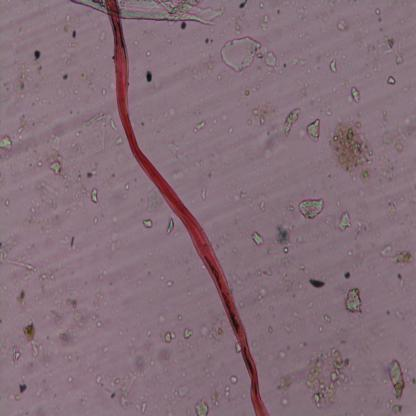Background material: (329, 118, 373, 184), (305, 346, 349, 408), (48, 298, 91, 346), (28, 180, 57, 244), (219, 36, 262, 73), (119, 333, 157, 374), (44, 132, 73, 183), (381, 110, 415, 153), (65, 170, 91, 218), (0, 242, 35, 276), (37, 340, 74, 370), (270, 268, 303, 299), (38, 254, 61, 298), (279, 368, 304, 408), (261, 119, 283, 164), (118, 363, 140, 407), (187, 50, 216, 83), (384, 358, 405, 402), (30, 368, 57, 402), (199, 313, 225, 347), (350, 204, 373, 241), (16, 144, 46, 171), (373, 146, 394, 183), (361, 43, 383, 77), (86, 110, 117, 134), (297, 196, 326, 221), (378, 246, 416, 265), (20, 321, 39, 358), (235, 76, 264, 100), (14, 60, 32, 98), (272, 219, 294, 250), (99, 172, 121, 202), (382, 36, 404, 66), (88, 282, 102, 329), (165, 141, 189, 167), (344, 285, 364, 315), (346, 240, 365, 270), (62, 41, 82, 69), (16, 111, 36, 139), (41, 113, 67, 134), (54, 81, 80, 102), (284, 106, 300, 139), (381, 196, 402, 221), (356, 329, 374, 357), (146, 188, 164, 215), (58, 227, 76, 254), (317, 0, 337, 23), (394, 270, 411, 297), (276, 254, 302, 271), (235, 185, 255, 207), (11, 22, 23, 56), (323, 207, 340, 231), (0, 131, 17, 155), (203, 350, 217, 379), (80, 65, 96, 90), (108, 229, 122, 257), (262, 46, 278, 70), (306, 119, 322, 143), (231, 11, 247, 35), (158, 342, 174, 366), (231, 271, 249, 292), (62, 14, 83, 32), (245, 108, 266, 126), (296, 1, 312, 24), (74, 132, 88, 158), (338, 209, 353, 233), (11, 380, 29, 400), (350, 12, 368, 32), (213, 229, 233, 247), (250, 228, 266, 250), (254, 262, 273, 280), (0, 154, 17, 174), (298, 72, 311, 98), (318, 99, 334, 118), (257, 13, 270, 36), (193, 398, 210, 415), (0, 72, 12, 96), (278, 320, 296, 336), (403, 364, 416, 386), (25, 356, 40, 375), (1, 193, 13, 216), (255, 287, 268, 308), (87, 160, 100, 181), (175, 383, 192, 399), (273, 0, 288, 18), (347, 87, 362, 105), (290, 55, 308, 70), (308, 275, 326, 290), (258, 192, 269, 216), (164, 327, 177, 346), (0, 336, 11, 358), (394, 306, 408, 323), (10, 345, 22, 364), (95, 27, 107, 46), (170, 170, 185, 185), (36, 85, 47, 105), (276, 346, 287, 365), (375, 7, 383, 33), (207, 146, 220, 162), (182, 324, 194, 341), (95, 265, 107, 282), (16, 288, 26, 308), (294, 234, 306, 250), (165, 216, 175, 235), (387, 400, 401, 413), (282, 202, 296, 215), (300, 32, 313, 46), (193, 120, 206, 134), (141, 216, 154, 230), (262, 349, 275, 363), (148, 112, 158, 130), (199, 182, 208, 202), (190, 157, 206, 168), (79, 391, 89, 408), (36, 65, 46, 82), (290, 308, 304, 320), (235, 296, 247, 310), (90, 186, 99, 204), (158, 390, 171, 402), (269, 366, 283, 377), (117, 154, 128, 168), (32, 48, 42, 63), (60, 69, 70, 84), (38, 0, 48, 15), (210, 388, 219, 404), (329, 58, 338, 74), (337, 19, 349, 31), (110, 210, 121, 223), (142, 27, 156, 37), (144, 69, 154, 83), (168, 104, 177, 119), (204, 36, 215, 48), (386, 75, 397, 87), (97, 85, 107, 98), (122, 180, 130, 196), (130, 34, 140, 46), (306, 296, 314, 310), (13, 277, 22, 289), (158, 311, 167, 323), (264, 324, 273, 335), (100, 342, 108, 354), (140, 401, 148, 413), (0, 171, 8, 183), (94, 376, 103, 386), (206, 169, 216, 178), (143, 327, 153, 336), (229, 375, 239, 384), (323, 313, 331, 324), (143, 48, 151, 59), (179, 21, 188, 30), (343, 269, 351, 279), (258, 0, 266, 10), (253, 354, 261, 364), (0, 283, 8, 293), (239, 0, 247, 10), (274, 27, 280, 40), (167, 278, 174, 289), (178, 310, 184, 322), (250, 340, 258, 349), (163, 368, 172, 376), (18, 182, 24, 194), (65, 375, 74, 383), (221, 114, 228, 124), (116, 136, 122, 147), (166, 34, 172, 44), (178, 338, 184, 348), (226, 126, 233, 134), (199, 263, 206, 271), (136, 278, 144, 285), (281, 61, 288, 69), (93, 214, 98, 225), (235, 341, 240, 352), (251, 164, 257, 172), (198, 96, 204, 104), (318, 325, 324, 333), (160, 274, 166, 280), (0, 317, 4, 325), (72, 30, 76, 38), (185, 291, 191, 296), (386, 309, 391, 315), (169, 380, 173, 387), (216, 76, 222, 80), (70, 111, 74, 116), (191, 344, 193, 349)
Cellulose filter fibre: (70, 0, 225, 23)
Cotton: (103, 0, 268, 416)
